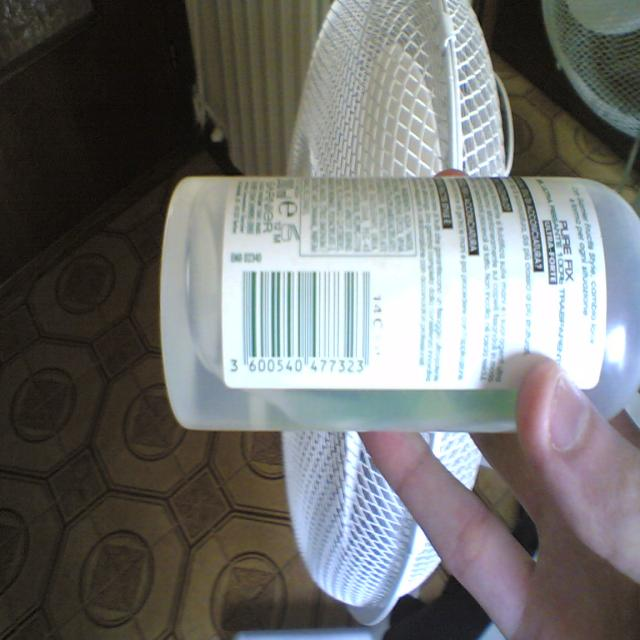barcode: (242, 272, 369, 368)
